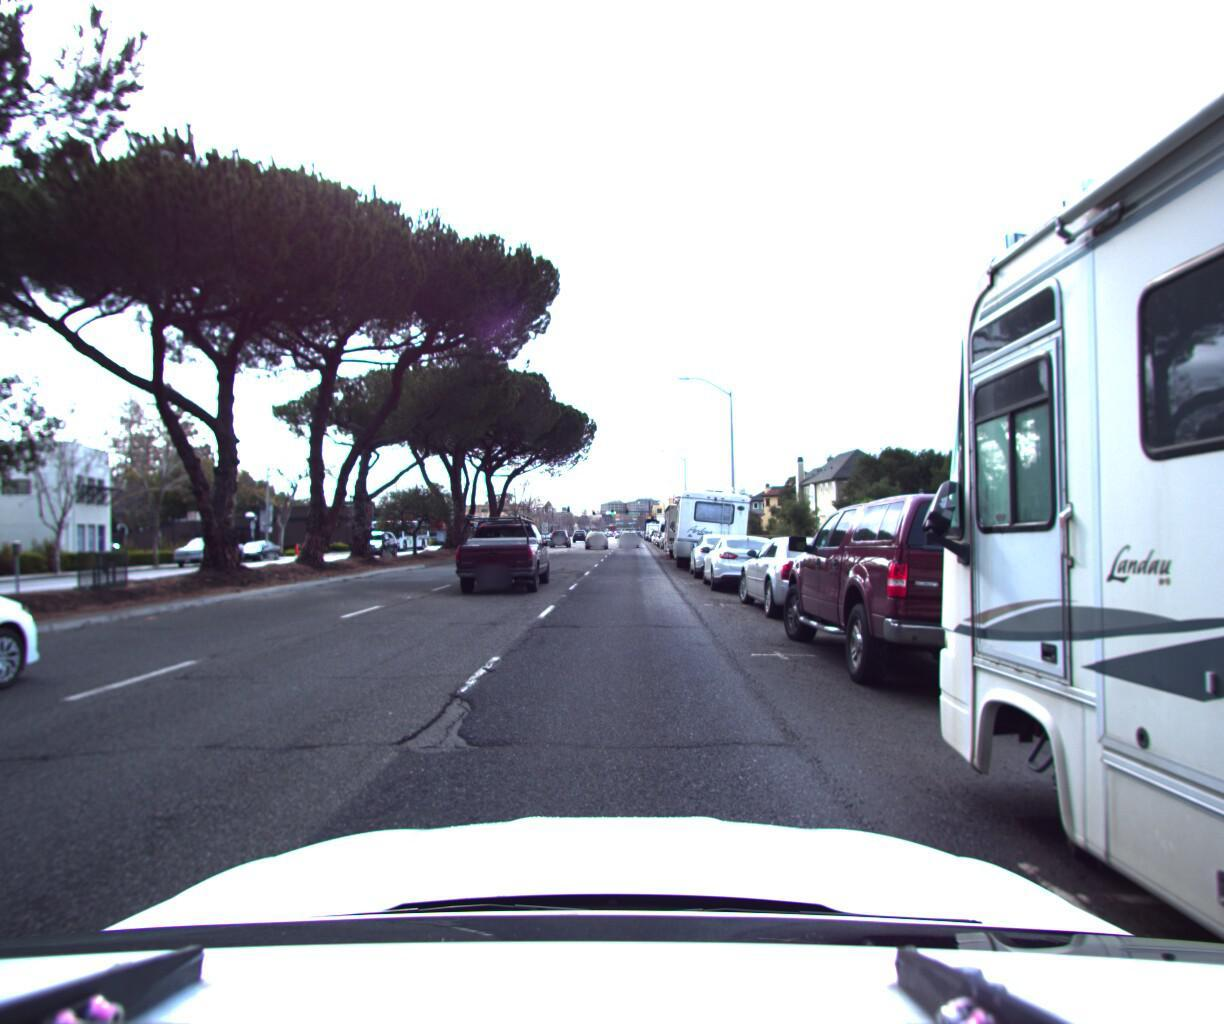bus: (367, 521, 434, 554)
car: (773, 489, 1122, 717), (0, 535, 80, 798), (732, 533, 884, 628), (457, 510, 549, 597), (700, 532, 790, 597), (689, 532, 754, 583), (175, 537, 252, 571), (349, 531, 401, 559), (236, 540, 288, 566), (582, 530, 607, 551), (549, 529, 574, 547), (618, 531, 639, 549)
other_vehicle: (673, 484, 752, 575), (664, 504, 722, 562)
